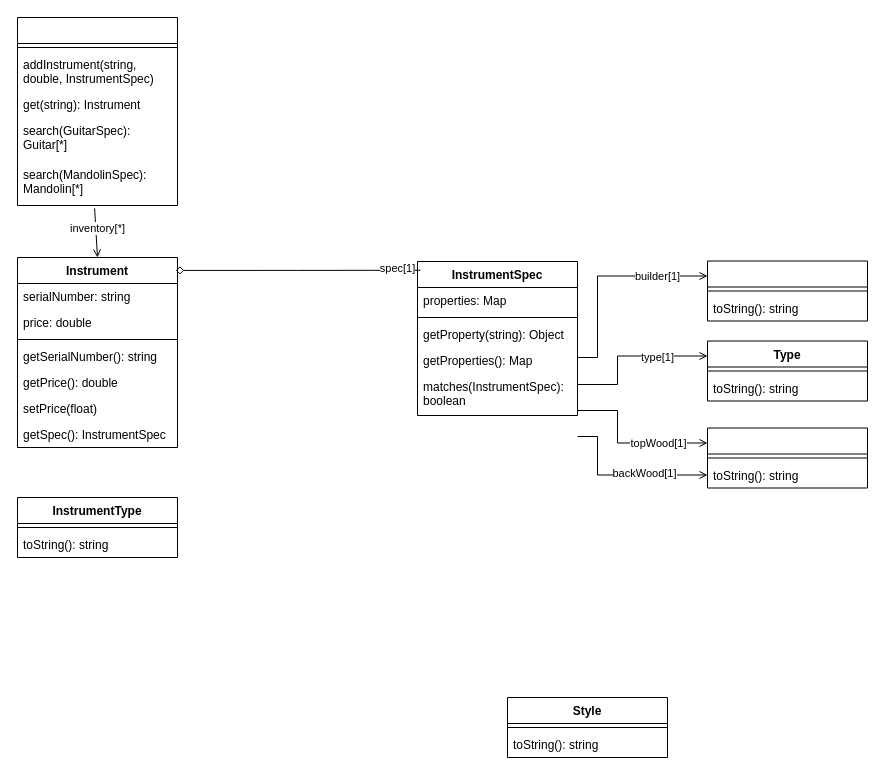
This 885x778 diagram has some shape labels left out. Here are the shapes that lost their labels. From the top down, the box of each, then its label:
(16, 16, 178, 206): Inventory
(706, 260, 868, 321): Builder
(706, 427, 868, 488): Wood
